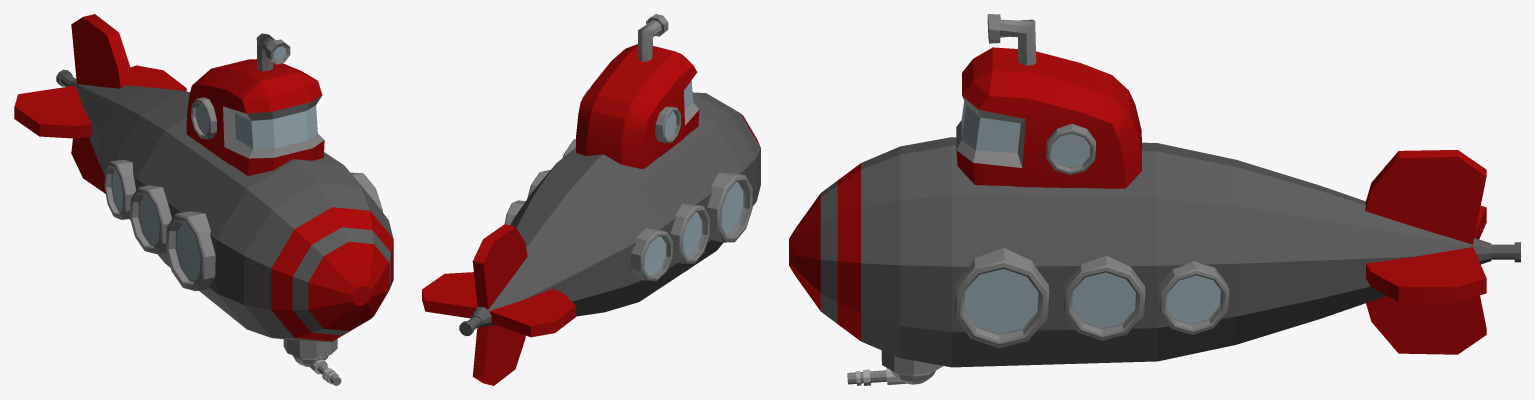
File: Boss 1.fbx
The picture shows the model from 3 angles, left to right: view 1: azimuth 30°, elevation 25°; view 2: azimuth 150°, elevation 25°; view 3: azimuth 270°, elevation 25°; orthographic projection. The views are drawn at different scales.
Parts seen in each view (by area): view 1: polySurface141; view 2: polySurface141; view 3: polySurface141.
Boxes of the visible parts, left/top/right/bottom form: polySurface141: left=14, top=14, right=393, bottom=385; polySurface141: left=422, top=14, right=760, bottom=385; polySurface141: left=789, top=14, right=1520, bottom=385.
Bounding box in the file's own units: 3.84 × 6.05 × 10.85.
